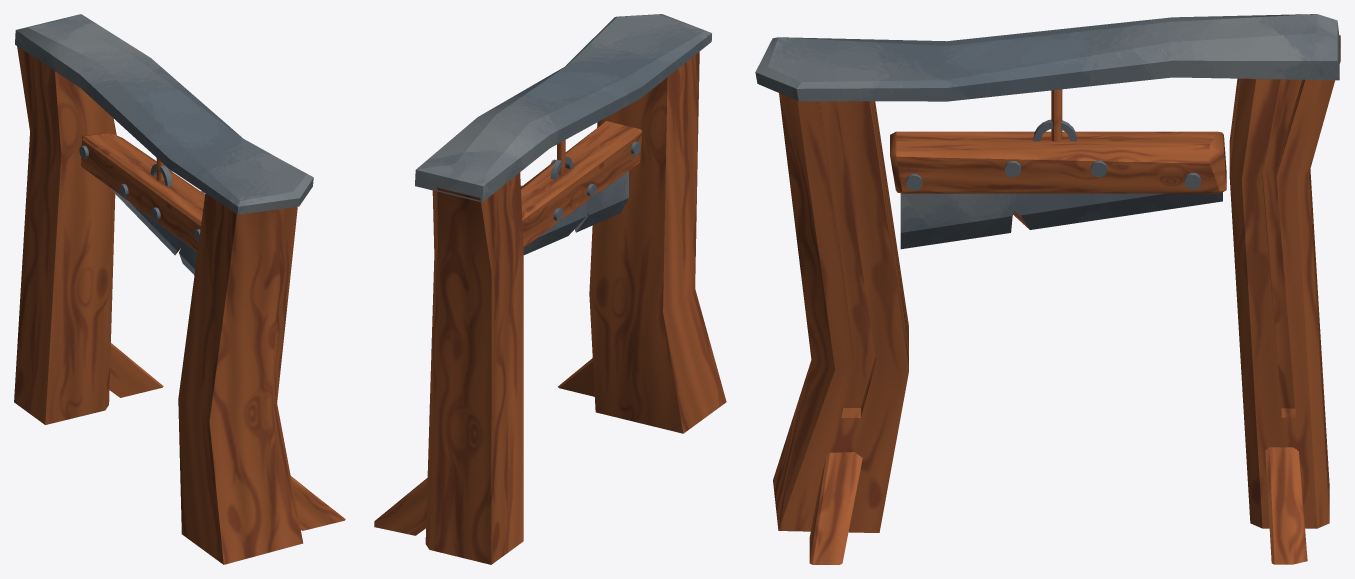
The model's file is SM_Door 1.fbx.
The picture shows the model from 3 angles, left to right: view 1: azimuth 30°, elevation 25°; view 2: azimuth 150°, elevation 25°; view 3: azimuth 270°, elevation 25°; orthographic projection. The views are drawn at different scales.
Visible parts, largest first — view 1: SM_Door; view 2: SM_Door; view 3: SM_Door.
Part boxes in pixels (x1,y1,x2,y2): SM_Door: [14, 14, 345, 564]; SM_Door: [374, 14, 726, 564]; SM_Door: [755, 14, 1340, 564].
Size of the model in its own units: 110 by 287 by 318.
